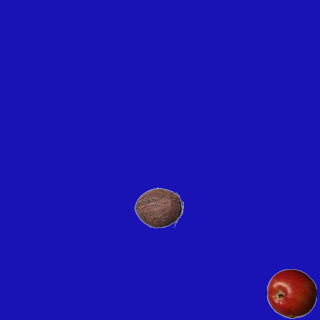Apple Braeburn: (266, 268, 316, 318)
Cocos: (133, 182, 183, 232)
